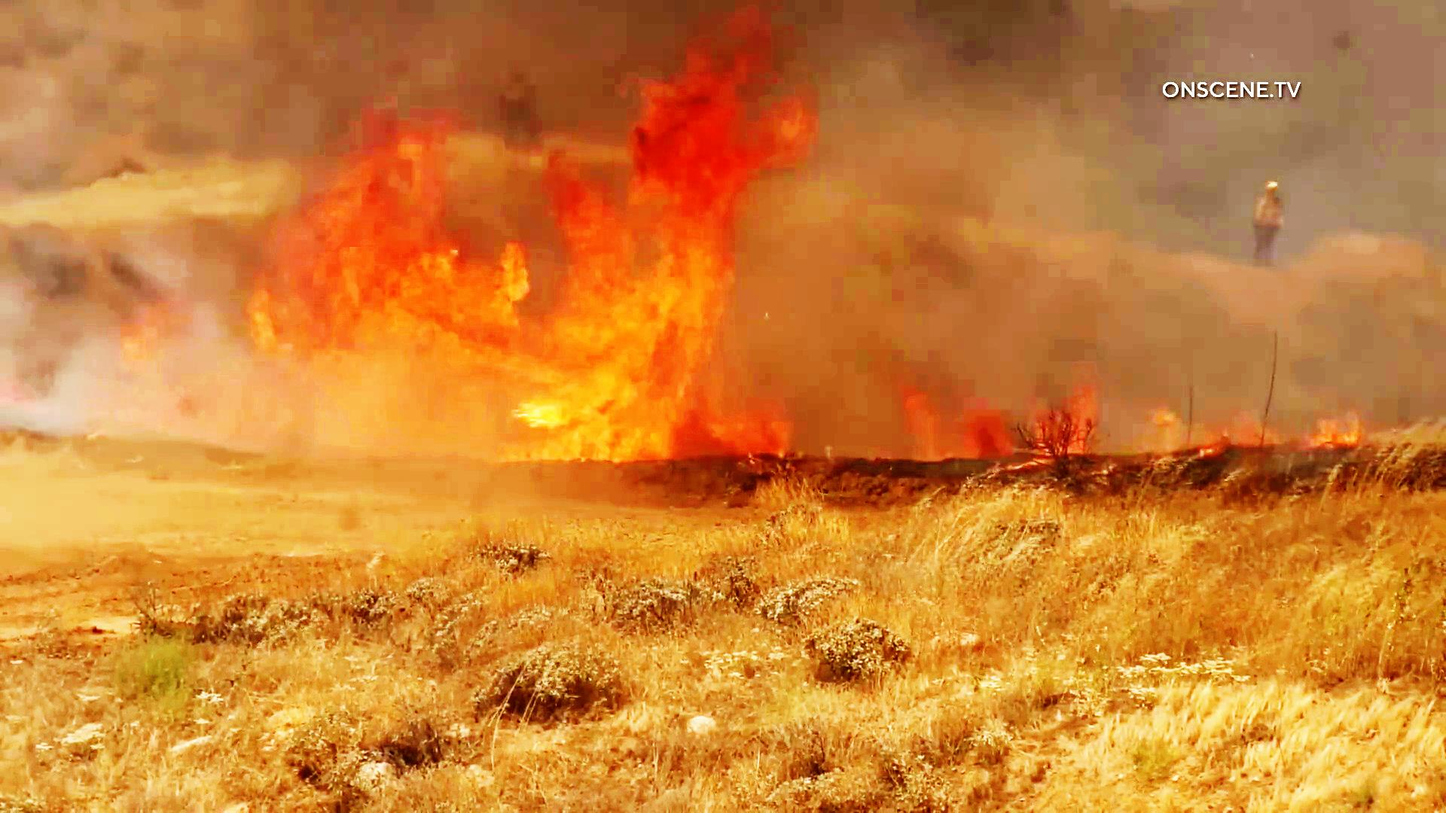fire: (268, 36, 816, 432), (908, 369, 1118, 475)
